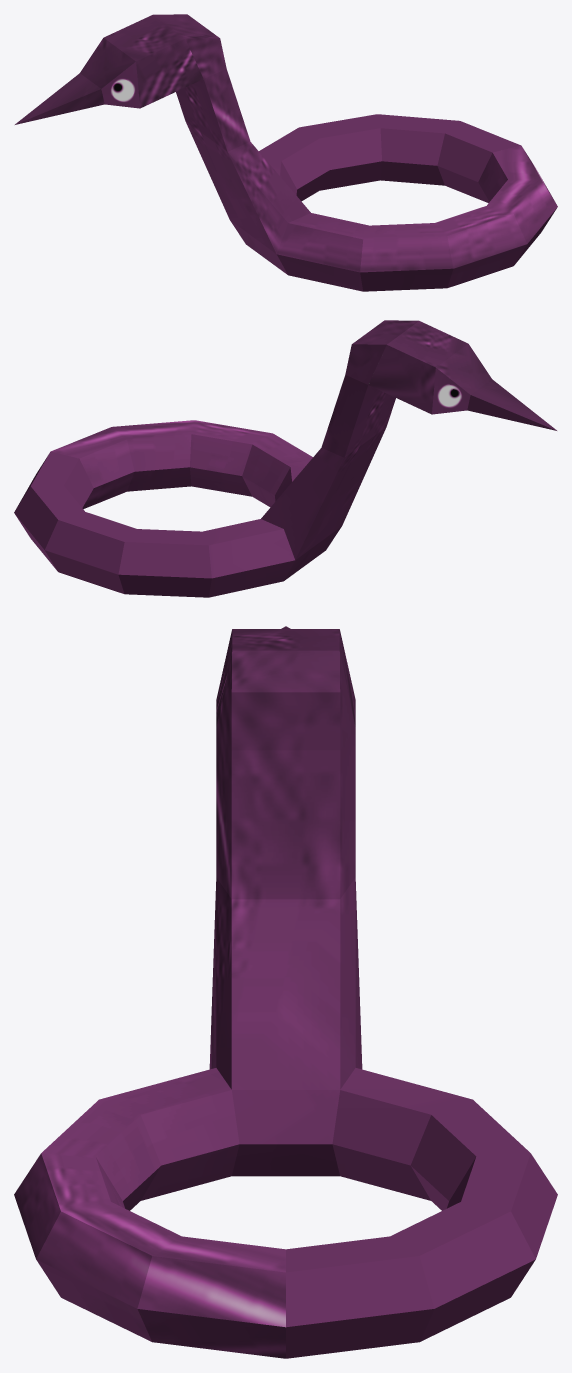
File: Boia1.fbx
The picture shows the model from 3 angles, top to bottom: view 1: azimuth 30°, elevation 25°; view 2: azimuth 150°, elevation 25°; view 3: azimuth 270°, elevation 25°; orthographic projection. The views are drawn at different scales.
Parts seen in each view (by area): view 1: Torus; view 2: Torus; view 3: Torus.
Boxes of the visible parts, <box> form: Torus: <box>15,14,557,291</box>; Torus: <box>14,320,556,597</box>; Torus: <box>14,626,557,1358</box>.
Size of the model in its own units: 452 by 213 by 247.
1 material, 1 textured.
